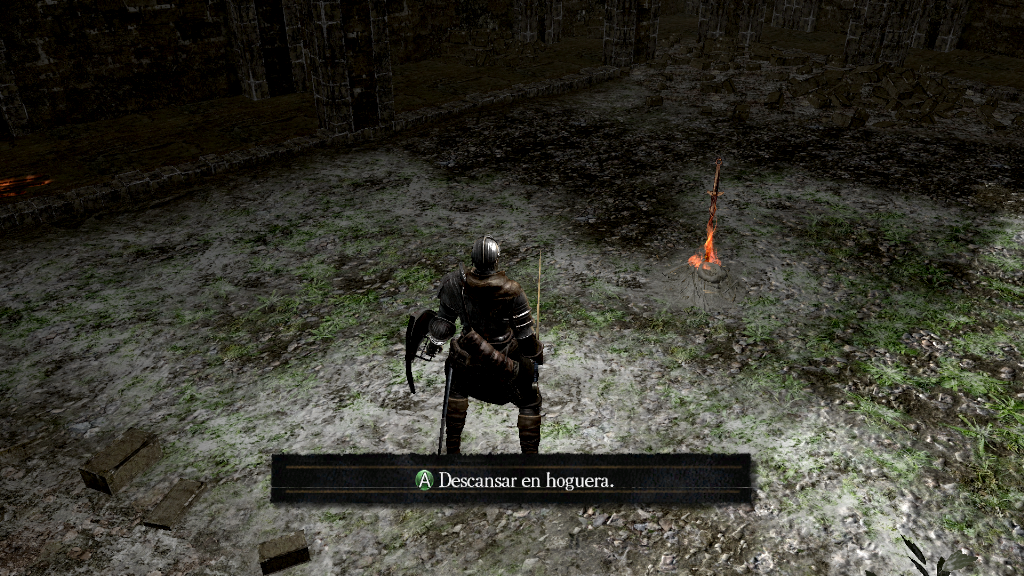bonfire: (662, 158, 753, 308)
dialogBox: (272, 454, 751, 501)
player: (404, 233, 547, 454)
